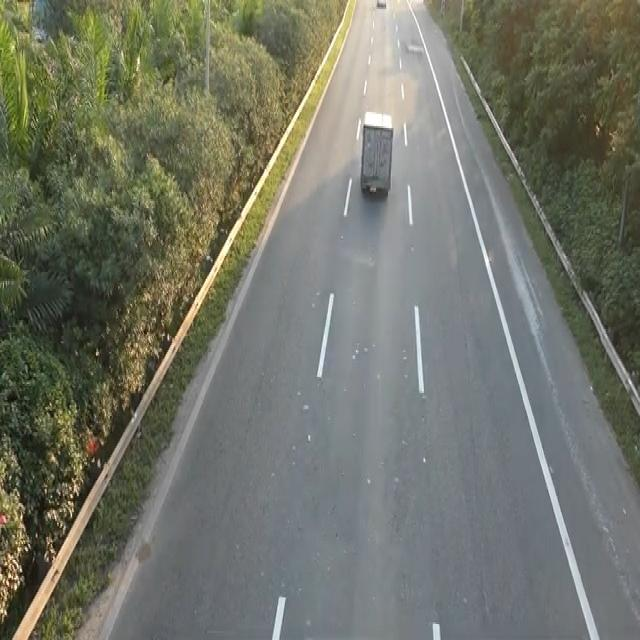minivan: (358, 107, 395, 199)
